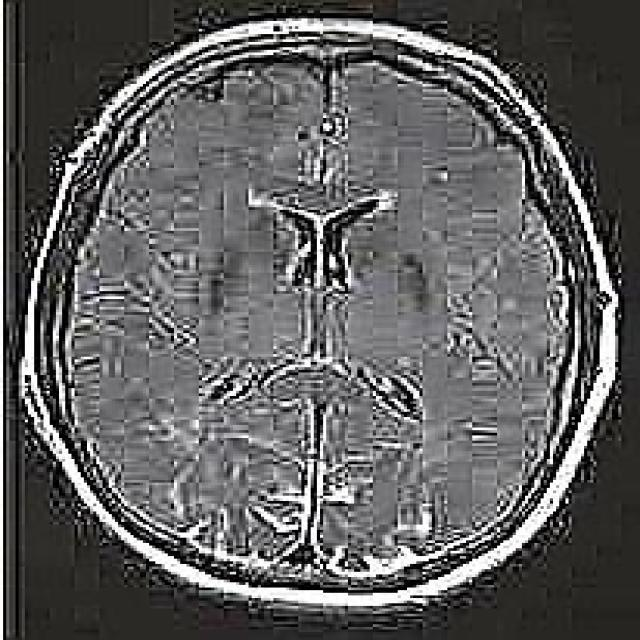notumor: (22, 18, 618, 619)
